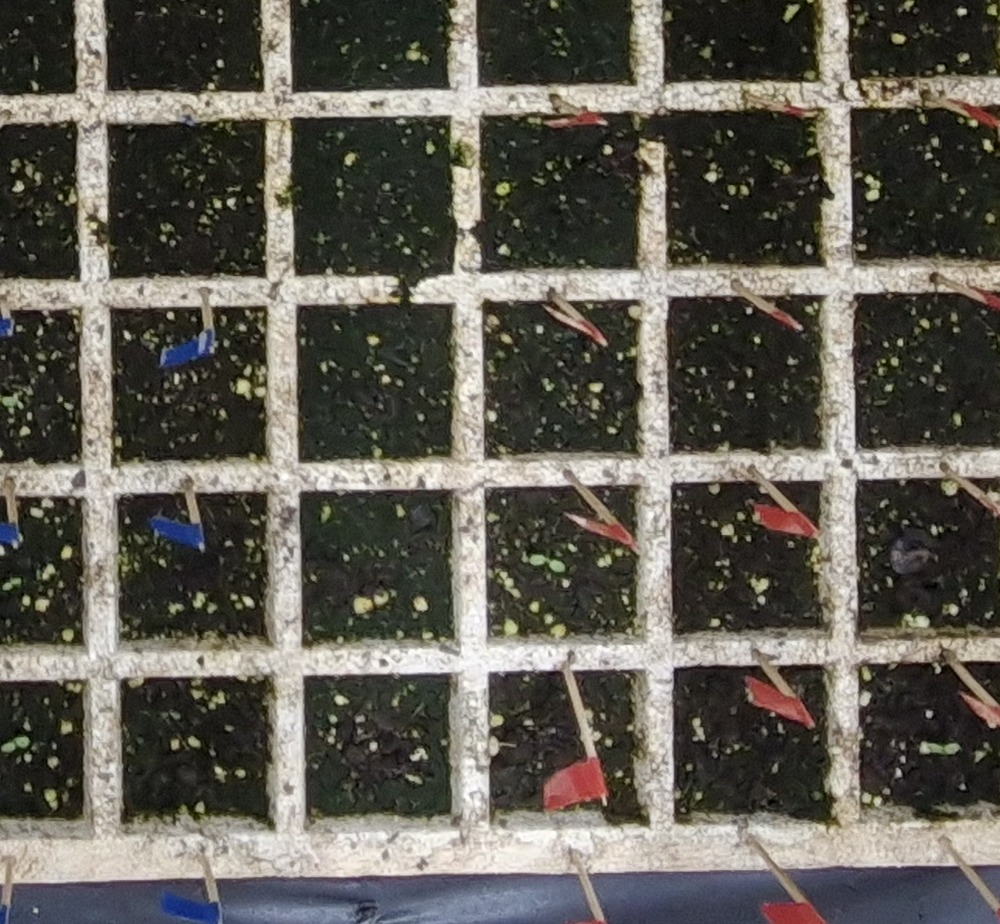Folha: (944, 744, 960, 754), (2, 397, 18, 406), (16, 737, 29, 748), (2, 742, 15, 752), (930, 745, 944, 753)
Germinacao: (2, 737, 29, 752), (930, 744, 960, 754), (0, 395, 18, 406)
